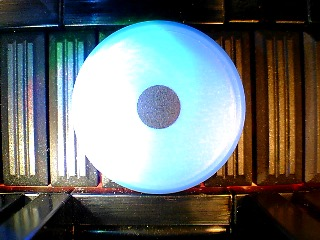BOHO: (70, 19, 246, 194)
